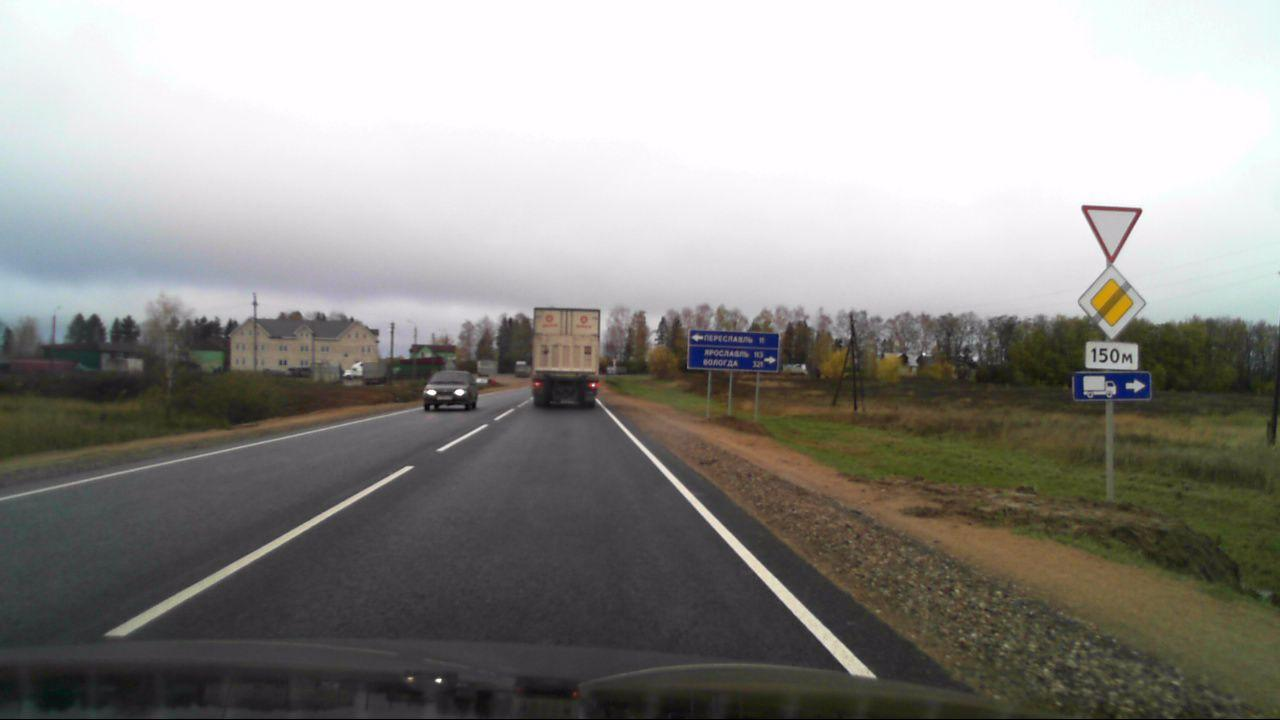2_2: (1076, 264, 1153, 337)
2_4: (1079, 201, 1146, 263)
6_10_1: (686, 326, 782, 374)
6_15_2: (1072, 370, 1152, 400)
8_1_1: (1085, 340, 1143, 368)
